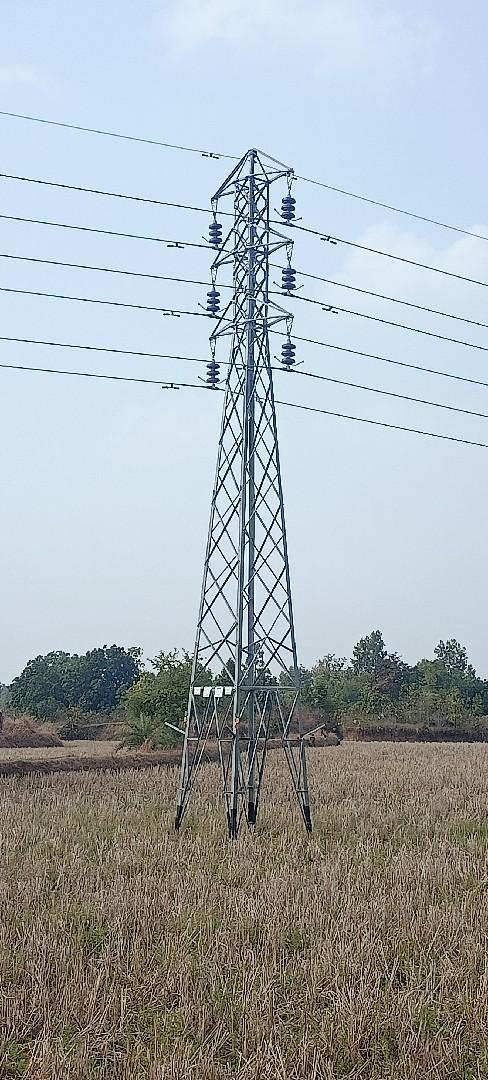GSM Antenna: (152, 144, 334, 797)
